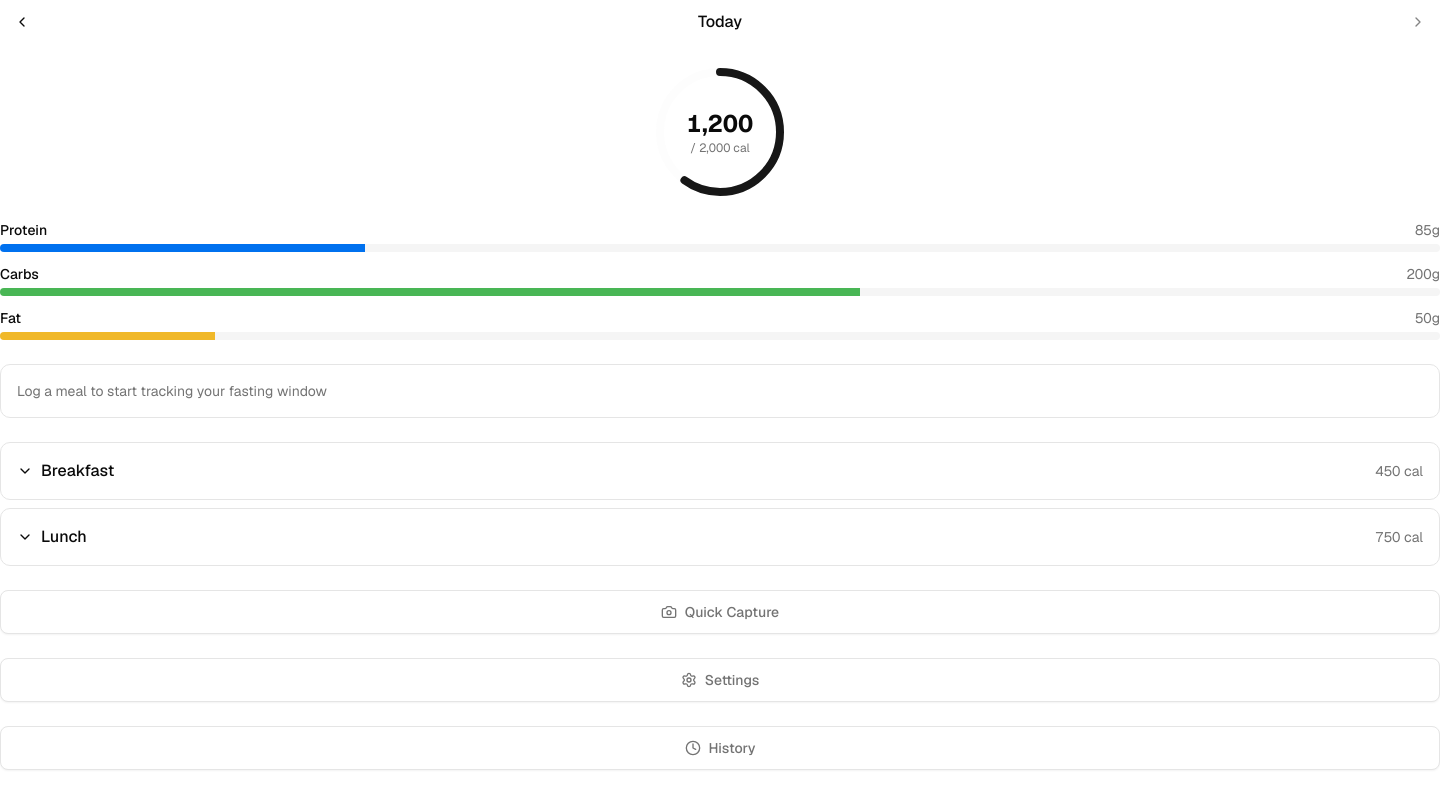
Scenario: DailyDashboard › entry interactions (FOO-749) › clicking delete button shows confirmation dialog
Expected: the text "Breakfast" is shown, [41,459,114,483]
Step 1. Click the button with test id "meal-header-1" → (78, 470), box [1,443,1439,499]
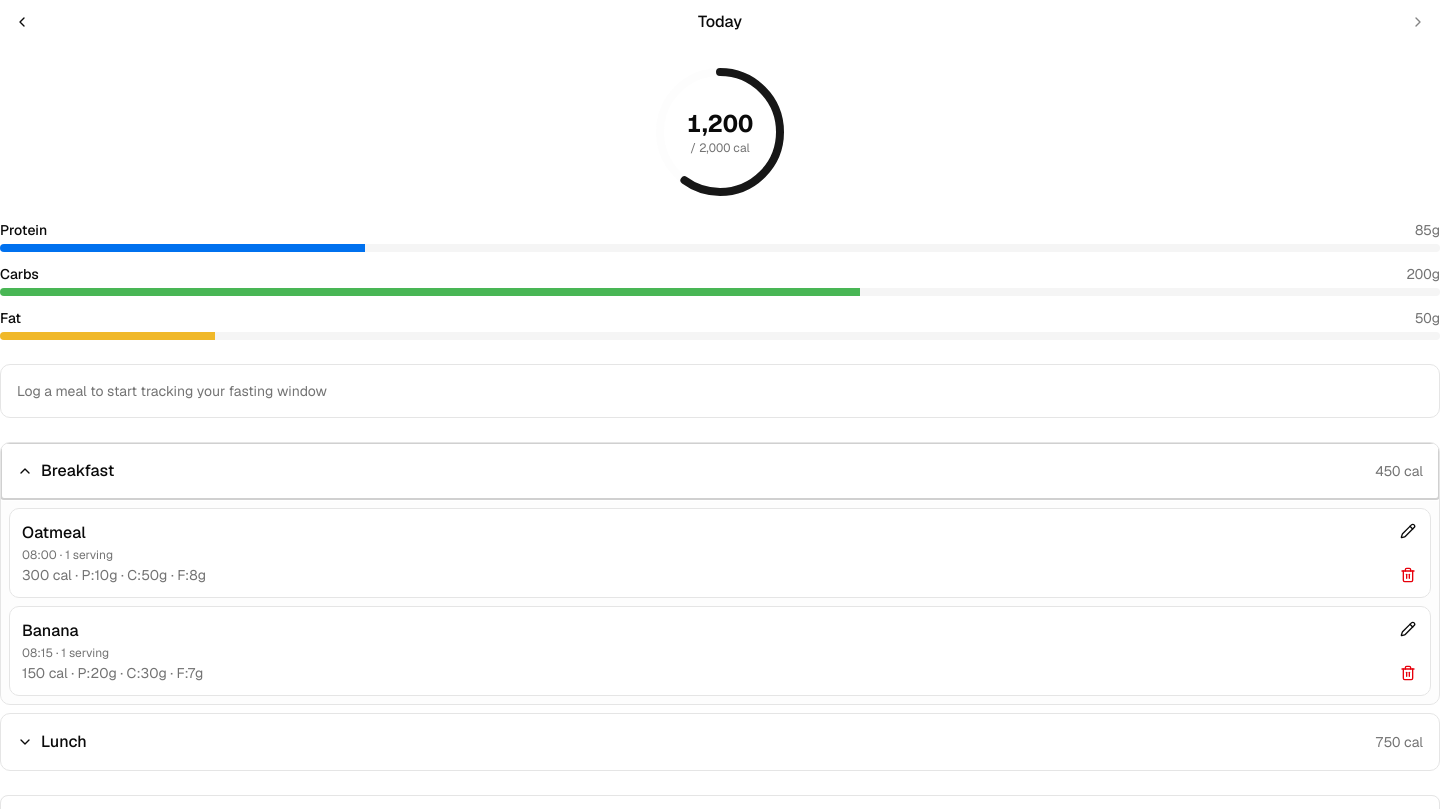
Step 2. Click the button named "Delete Oatmeal" → (1408, 575), box [1386,553,1430,597]
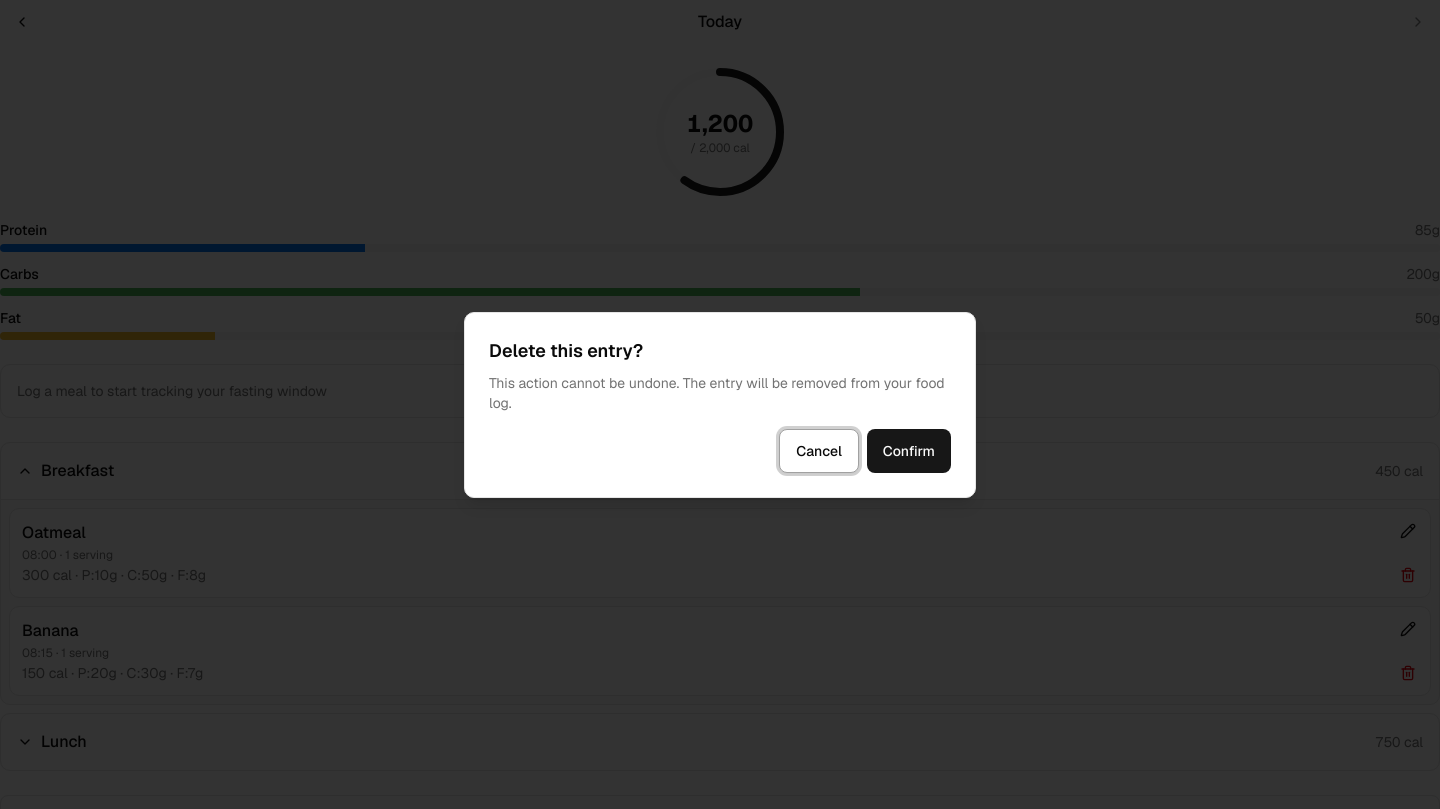
Result: the heading "Delete this entry?" is shown at [489,339,643,362]
